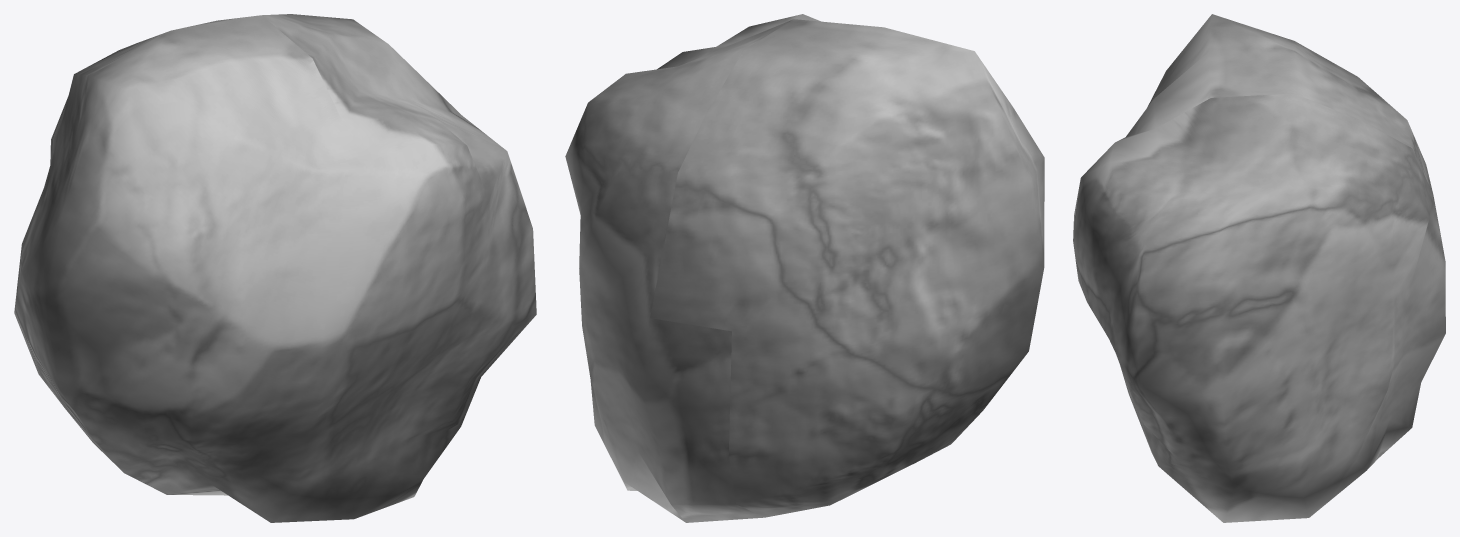
Rendered from asteroide.glb.
3 views of the same model, side by side, from view 1: azimuth 30°, elevation 25°; view 2: azimuth 150°, elevation 25°; view 3: azimuth 270°, elevation 25° (orthographic). The views are drawn at different scales.
Parts seen in each view (by area): view 1: Object_2; view 2: Object_2; view 3: Object_2.
Boxes of the visible parts, x1,y1,x2,y2 form: Object_2: [14, 14, 536, 522]; Object_2: [565, 14, 1044, 522]; Object_2: [1073, 14, 1445, 522].
Bounding box in the file's own units: 2.58 × 2.62 × 2.26.
1 material, 1 textured.
